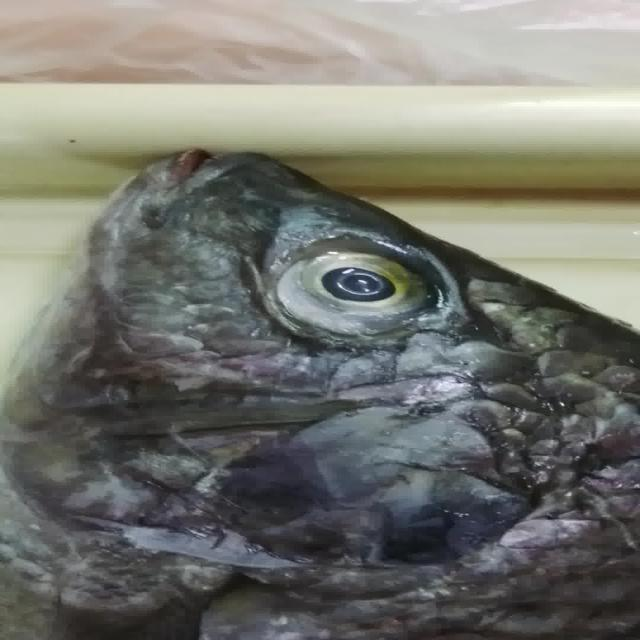Non-Fresh: (239, 215, 464, 348)
